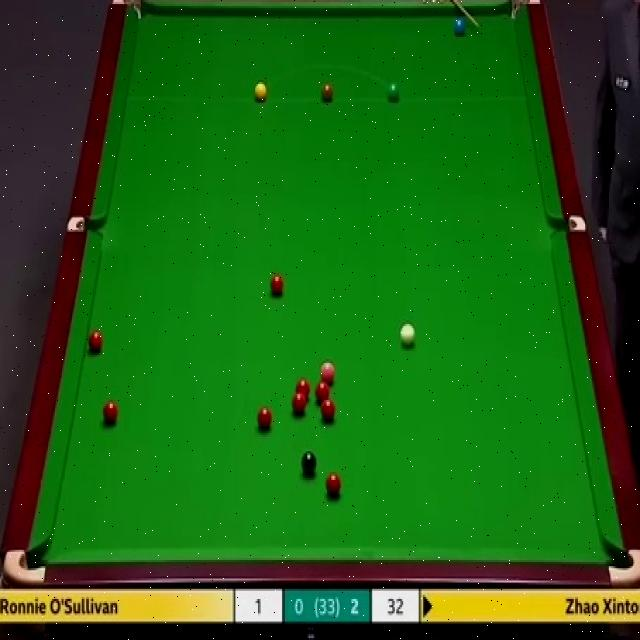black-ball: (301, 449, 319, 479)
blue-ball: (452, 12, 468, 38)
brown-ball: (321, 83, 334, 104)
green-ball: (386, 82, 401, 104)
pink-ball: (317, 360, 336, 384)
red-ball: (102, 400, 119, 428), (269, 272, 286, 298), (325, 472, 342, 496), (291, 392, 307, 417), (257, 406, 272, 432), (294, 378, 311, 400), (87, 330, 102, 354), (321, 398, 336, 421), (314, 382, 330, 402)
white-ball: (399, 320, 416, 348)
yellow-ball: (254, 81, 268, 103)
